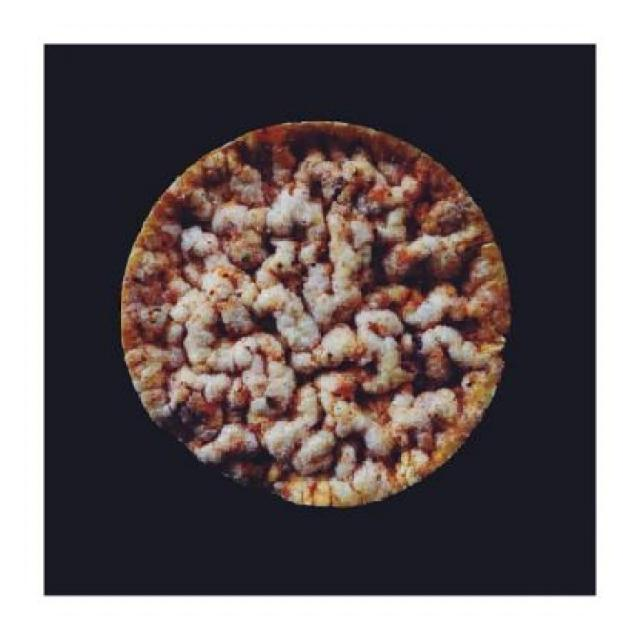Gallette di riso packaged: (120, 120, 514, 506)
